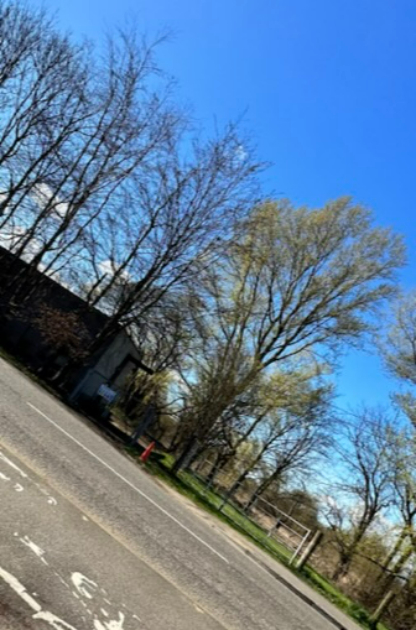tree: (176, 196, 407, 462), (96, 121, 263, 397), (0, 80, 177, 340), (340, 422, 400, 591)
